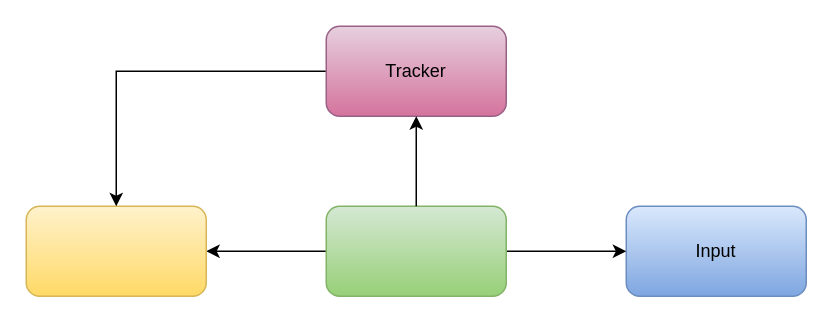
This 833x323 diagram has some shape labels left out. The centre of each missing label's shape, as x and y in pixels:
"Item" goes at pixel 115 250.
"StartUI" goes at pixel 415 250.
